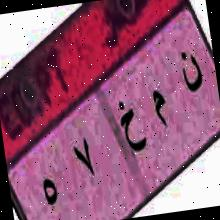5: (36, 169, 64, 217)
7: (71, 132, 99, 185)
khaa: (115, 92, 150, 168)
meem: (148, 78, 175, 138)
noon: (175, 44, 212, 105)
